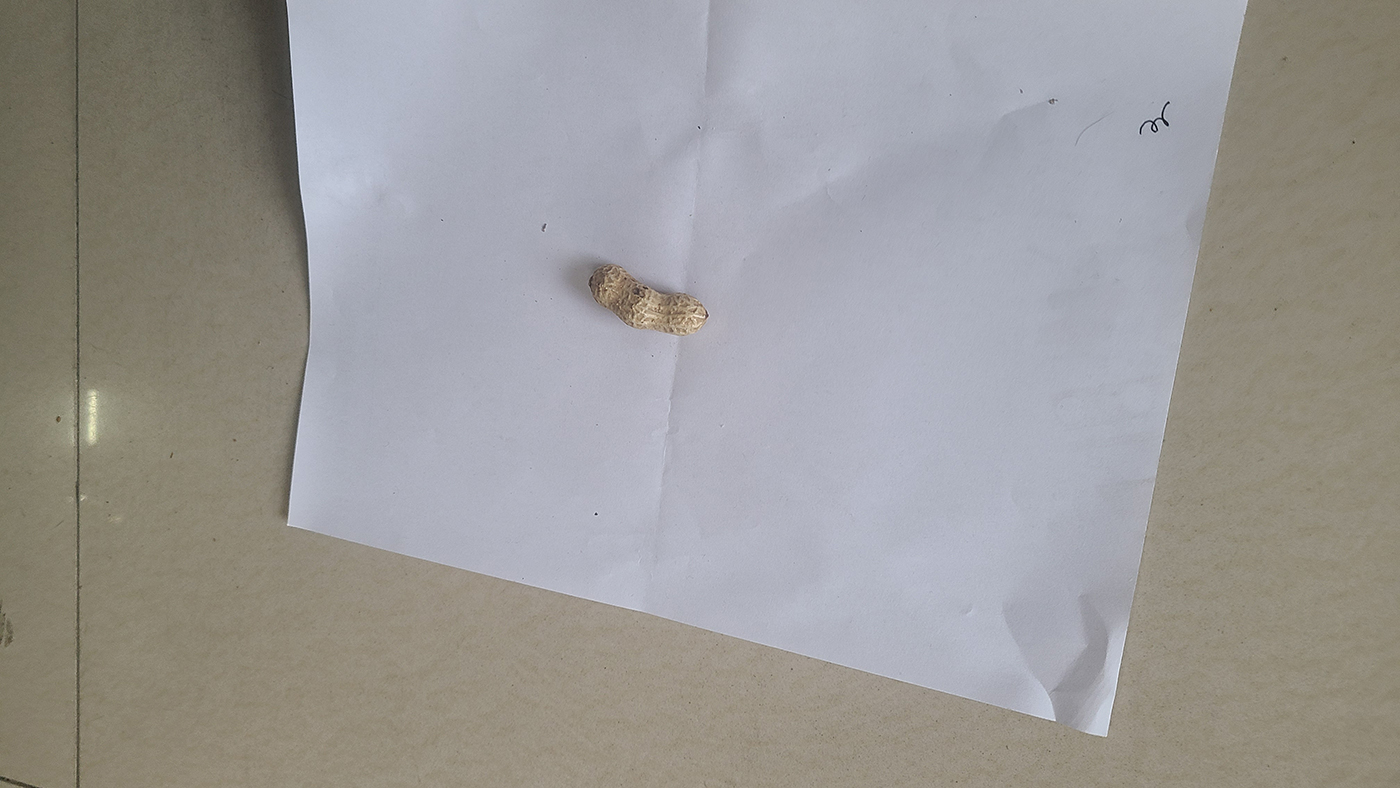h: (588, 263, 708, 336)
